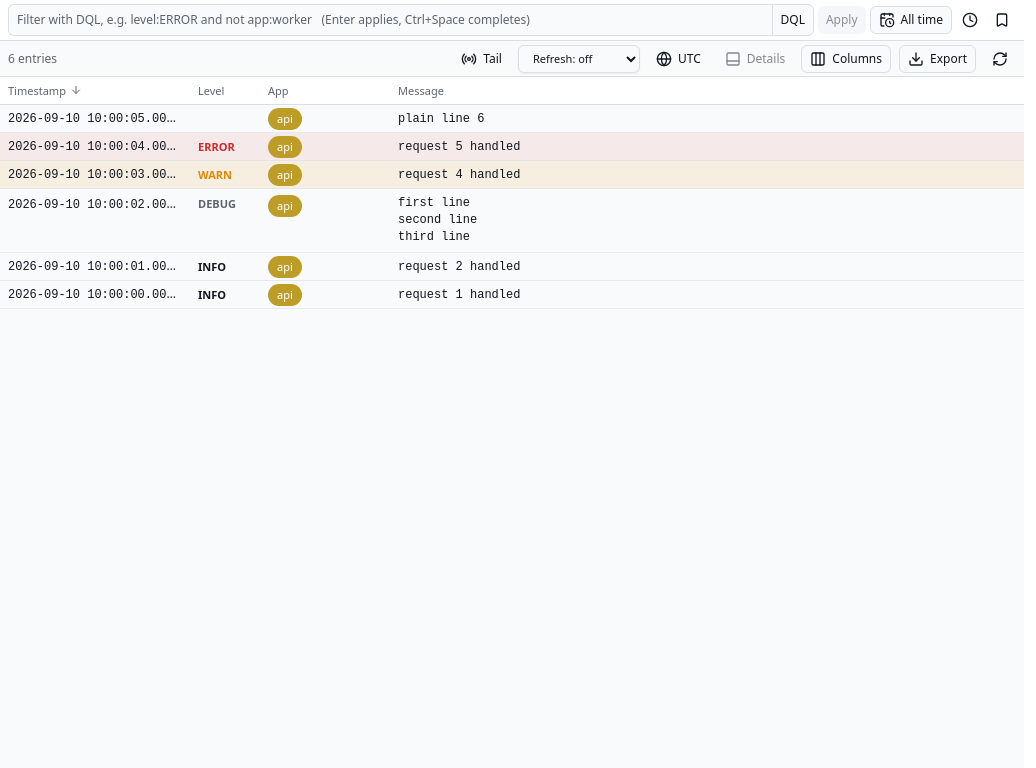
row selection and detail panel › shows multi-line messages fully in the table row and detail panel
Expected: the row that starts with "2026-09-10 10:00:02.000 Z" shows "first line", [398,196,470,210]
Expected: the row that starts with "2026-09-10 10:00:02.000 Z" shows "second line", [398,213,477,227]
Click the row that starts with "2026-09-10 10:00:02.000 Z" at [512, 221], box [0,189,1024,253]
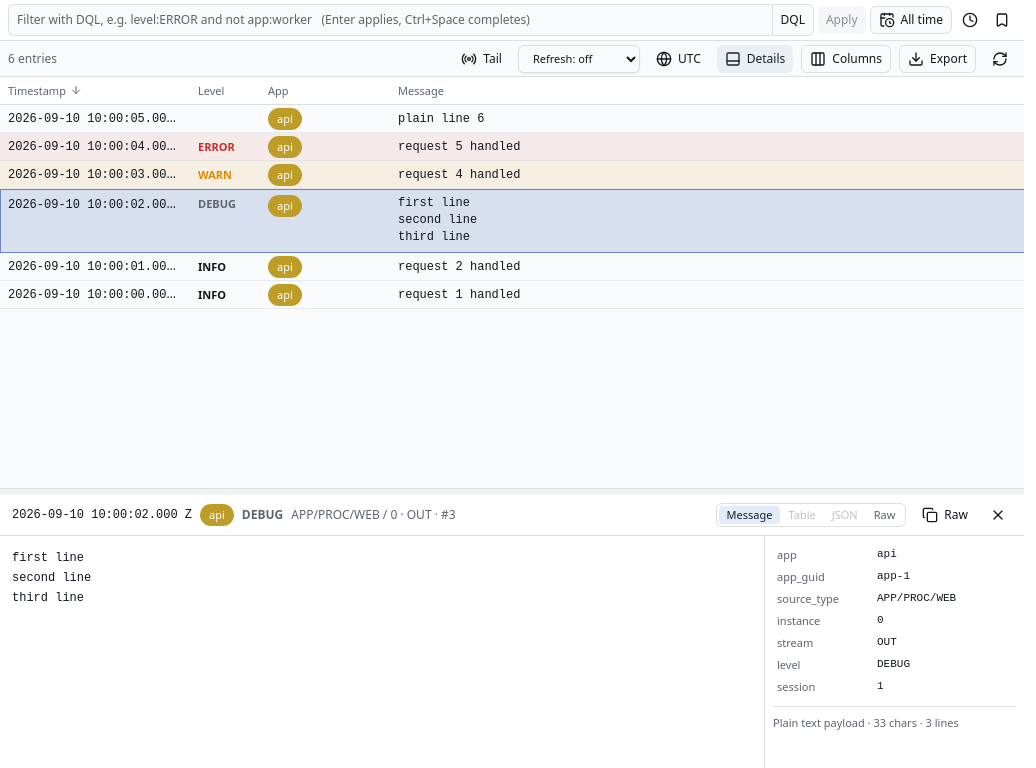
Now the panel shows "second line", box [12,551,91,605]
Now the element named "entry details" shows "3 lines", box [917,715,959,730]
